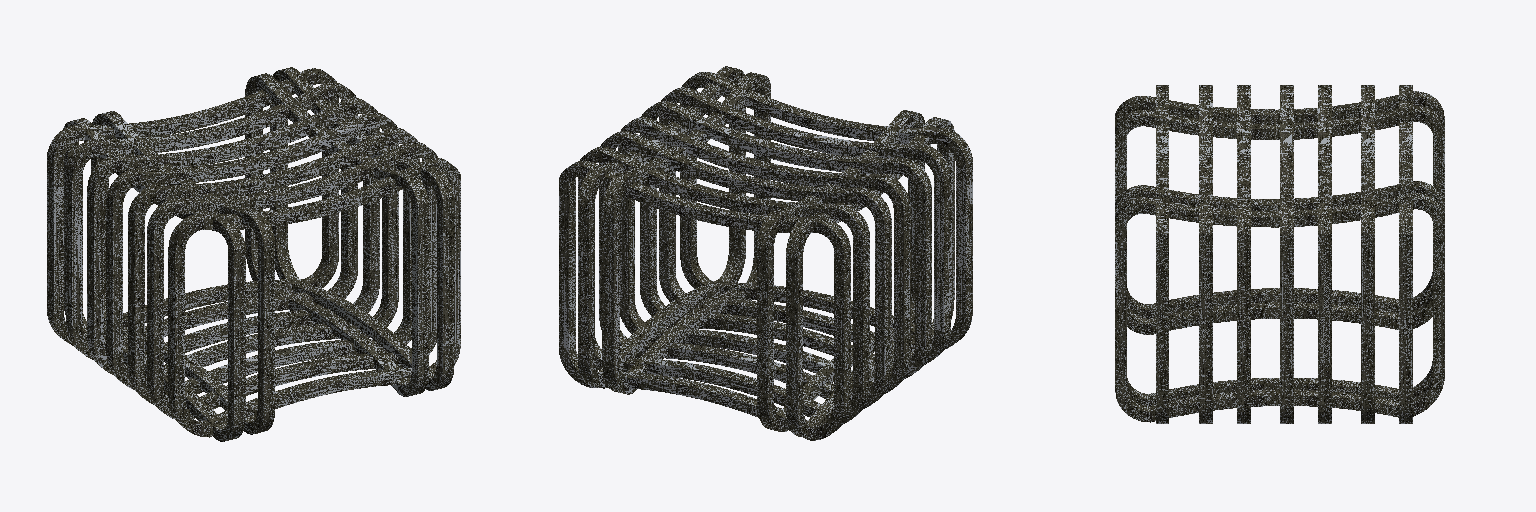
3 renders of one model, left to right at view 1: azimuth 30°, elevation 25°; view 2: azimuth 150°, elevation 25°; view 3: azimuth 270°, elevation 25°, orthographic.
Parts seen in each view (by area): view 1: group_6.001_ID122, group_2.001_ID54, group_0.001_ID20, group_5.001_ID105, group_3.001_ID71, group_4.001_ID88, group_1.001_ID37, group_9.001_ID173, group_7.001_ID139, group_10.001_ID190, group_8.001_ID156, group_7_ID131 (+10 smaller); view 2: group_1.001_ID37, group_6.001_ID122, group_4.001_ID88, group_5.001_ID105, group_2.001_ID54, group_0.001_ID20, group_3.001_ID71, group_9.001_ID173, group_7.001_ID139, group_10.001_ID190, group_8.001_ID156, group_1_ID29 (+10 smaller); view 3: group_7.001_ID139, group_10.001_ID190, group_8.001_ID156, group_6.001_ID122, group_5.001_ID105, group_4.001_ID88, group_2.001_ID54, group_3.001_ID71, group_9.001_ID173, group_1.001_ID37, group_0.001_ID20, group_8_ID148 (+3 smaller).
Boxes of the visible parts, <box> form: group_6.001_ID122: <box>106,112,398,389</box>; group_2.001_ID54: <box>147,142,437,418</box>; group_0.001_ID20: <box>168,157,460,437</box>; group_5.001_ID105: <box>87,98,379,374</box>; group_3.001_ID71: <box>66,82,357,359</box>; group_4.001_ID88: <box>128,128,419,404</box>; group_1.001_ID37: <box>47,68,338,345</box>; group_9.001_ID173: <box>245,73,428,396</box>; group_7.001_ID139: <box>270,67,453,390</box>; group_10.001_ID190: <box>91,111,274,434</box>; group_8.001_ID156: <box>63,118,245,441</box>; group_7_ID131: <box>276,120,434,378</box>; group_1.001_ID37: <box>559,161,850,440</box>; group_6.001_ID122: <box>618,117,910,393</box>; group_4.001_ID88: <box>640,101,931,378</box>; group_5.001_ID105: <box>599,131,891,408</box>; group_2.001_ID54: <box>659,87,950,364</box>; group_0.001_ID20: <box>680,72,972,348</box>; group_3.001_ID71: <box>578,147,869,423</box>; group_9.001_ID173: <box>602,72,770,394</box>; group_7.001_ID139: <box>578,66,745,388</box>; group_10.001_ID190: <box>757,110,924,431</box>; group_8.001_ID156: <box>786,117,954,438</box>; group_1_ID29: <box>569,177,825,428</box>; group_7.001_ID139: <box>1115,193,1444,422</box>; group_10.001_ID190: <box>1115,106,1444,334</box>; group_8.001_ID156: <box>1115,91,1444,318</box>; group_6.001_ID122: <box>1280,85,1293,423</box>; group_5.001_ID105: <box>1318,85,1331,423</box>; group_4.001_ID88: <box>1237,85,1250,423</box>; group_2.001_ID54: <box>1199,85,1212,423</box>; group_3.001_ID71: <box>1361,85,1374,423</box>; group_9.001_ID173: <box>1115,181,1444,405</box>; group_1.001_ID37: <box>1399,85,1412,423</box>; group_0.001_ID20: <box>1156,85,1168,423</box>; group_8_ID148: <box>1127,272,1432,309</box>.
Bounding box in the file's own units: 6.78 × 5.01 × 6.78.
3 materials, 1 textured.